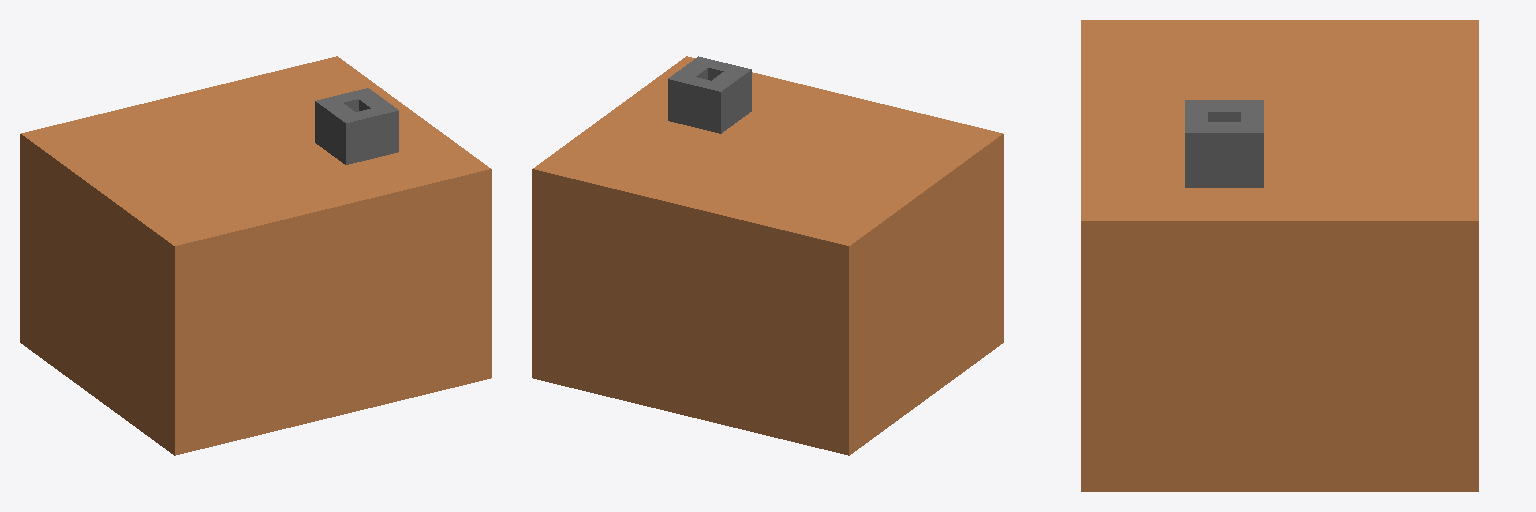
URDF robot description (peg_in_hole_scene_0089_tol05):
<?xml version="1.0"?>
<robot name="peg_in_hole_scene_0089_tol05">
  <material name="wood"><color rgba="0.82 0.56 0.35 1.0"/></material>
  <material name="hole_grey"><color rgba="0.4706 0.4706 0.4706 1.0"/></material>
  <link name="box">
    <visual>
      <origin xyz="0.000000 0.000000 0.000000" rpy="0 0 0"/>
      <geometry><box size="0.475000 0.400000 0.300000"/></geometry>
      <material name="wood"/>
    </visual>
    <collision>
      <origin xyz="0.000000 0.000000 0.000000" rpy="0 0 0"/>
      <geometry><box size="0.475000 0.400000 0.300000"/></geometry>
    </collision>
    <visual>
      <origin xyz="0.119450 -0.055728 0.155000" rpy="0 0 0"/>
      <geometry><box size="0.080000 0.080000 0.010000"/></geometry>
      <material name="hole_grey"/>
    </visual>
    <collision>
      <origin xyz="0.119450 -0.055728 0.155000" rpy="0 0 0"/>
      <geometry><box size="0.080000 0.080000 0.010000"/></geometry>
    </collision>
    <visual>
      <origin xyz="0.145300 -0.055728 0.185000" rpy="0 0 0"/>
      <geometry><box size="0.028299 0.080000 0.050000"/></geometry>
      <material name="hole_grey"/>
    </visual>
    <collision>
      <origin xyz="0.145300 -0.055728 0.185000" rpy="0 0 0"/>
      <geometry><box size="0.028299 0.080000 0.050000"/></geometry>
    </collision>
    <visual>
      <origin xyz="0.093599 -0.055728 0.185000" rpy="0 0 0"/>
      <geometry><box size="0.028299 0.080000 0.050000"/></geometry>
      <material name="hole_grey"/>
    </visual>
    <collision>
      <origin xyz="0.093599 -0.055728 0.185000" rpy="0 0 0"/>
      <geometry><box size="0.028299 0.080000 0.050000"/></geometry>
    </collision>
    <visual>
      <origin xyz="0.119450 -0.027377 0.185000" rpy="0 0 0"/>
      <geometry><box size="0.023403 0.023299 0.050000"/></geometry>
      <material name="hole_grey"/>
    </visual>
    <collision>
      <origin xyz="0.119450 -0.027377 0.185000" rpy="0 0 0"/>
      <geometry><box size="0.023403 0.023299 0.050000"/></geometry>
    </collision>
    <visual>
      <origin xyz="0.119450 -0.084079 0.185000" rpy="0 0 0"/>
      <geometry><box size="0.023403 0.023299 0.050000"/></geometry>
      <material name="hole_grey"/>
    </visual>
    <collision>
      <origin xyz="0.119450 -0.084079 0.185000" rpy="0 0 0"/>
      <geometry><box size="0.023403 0.023299 0.050000"/></geometry>
    </collision>
    <inertial>
      <mass value="500"/>
      <friction value="1.0"/>
      <inertia ixx="1000.0" ixy="0.0" ixz="0.0" iyy="1000.0" iyz="0.0" izz="1000.0"/>
    </inertial>
  </link>
</robot>

--- Render facts (derived) ---
Views: 3 orthographic renders of the robot side by side, from view 1: azimuth 30°, elevation 25°; view 2: azimuth 150°, elevation 25°; view 3: azimuth 270°, elevation 25°.
Model peg_in_hole_scene_0089_tol05 with 1 links and 0 joints (none), rooted at box, posed every joint at zero.
Visible links, largest first — view 1: box; view 2: box; view 3: box.
Boxes of the visible links, <box> form: box: <box>20,56,491,455</box>; box: <box>532,56,1003,455</box>; box: <box>1081,20,1478,491</box>.
Bounding box of the posed robot: 0.475 × 0.4 × 0.36 m (x, y, z).
Geometry: primitives only (box / cylinder / sphere), no mesh files.
